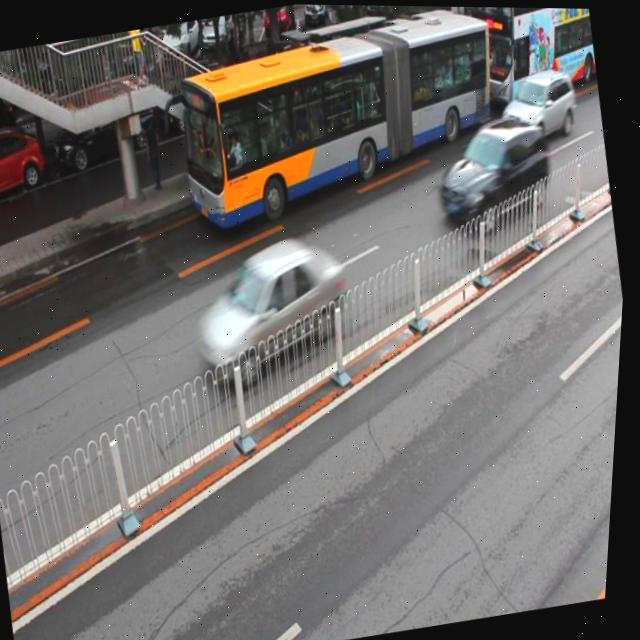car: (185, 225, 361, 390), (427, 108, 559, 235), (44, 89, 158, 175), (153, 52, 247, 139), (495, 61, 582, 147), (254, 40, 341, 115), (0, 120, 53, 211)
van: (167, 2, 513, 232), (456, 5, 603, 113)
